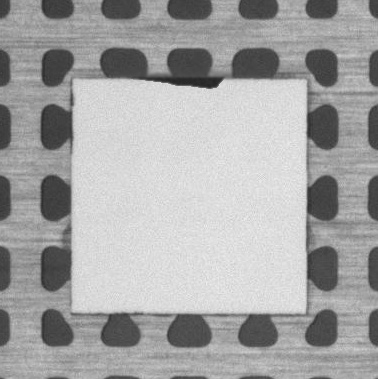DIE_BROKEN: (135, 71, 230, 87)
